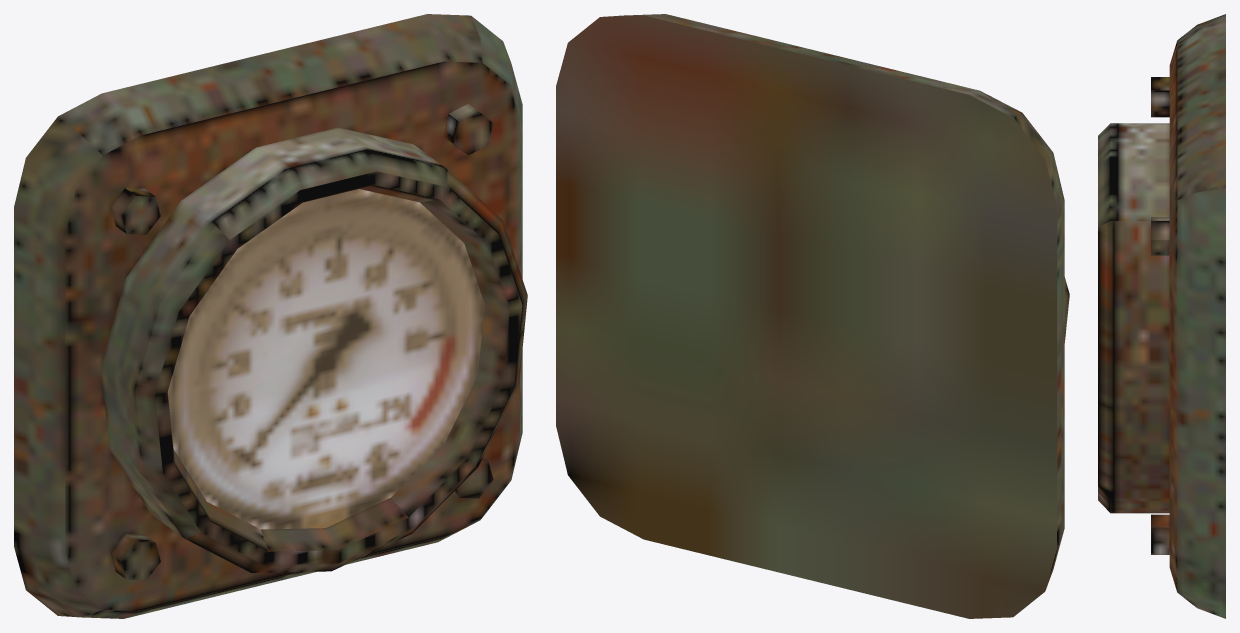
File: Pipe_Set_3_13.glb
The picture shows the model from 3 angles, left to right: view 1: azimuth 30°, elevation 25°; view 2: azimuth 150°, elevation 25°; view 3: azimuth 270°, elevation 25°; orthographic projection. The views are drawn at different scales.
Parts seen in each view (by area): view 1: Pipe_Set_3_13; view 2: Pipe_Set_3_13; view 3: Pipe_Set_3_13.
Boxes of the visible parts, box(x1,y1,x2,y2) form: Pipe_Set_3_13: box(14, 14, 527, 618); Pipe_Set_3_13: box(556, 14, 1069, 618); Pipe_Set_3_13: box(1098, 14, 1225, 618).
Bounding box in the file's own units: 0.2026 × 0.2026 × 0.0519.
Materials: 1 (1 with a texture image).
